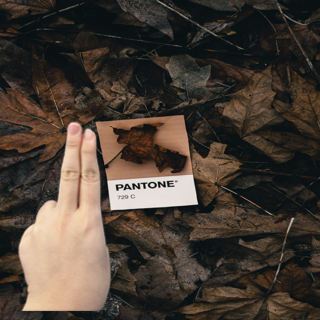DHAVE: (12, 117, 117, 307)
